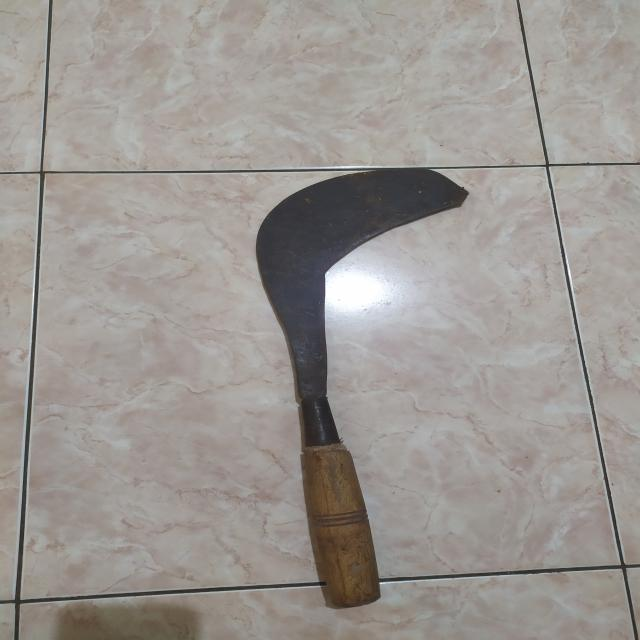Celurit: (253, 169, 475, 611)
